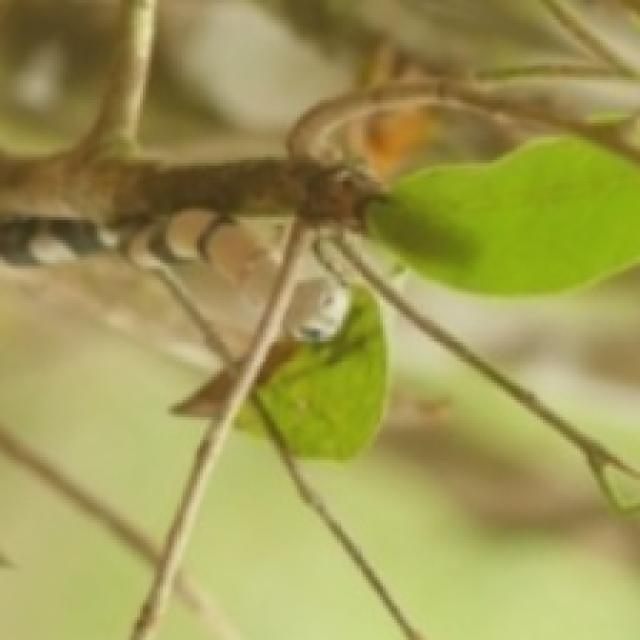king cobra: (0, 0, 637, 637), (0, 0, 637, 634), (154, 300, 637, 637), (343, 229, 637, 466)
